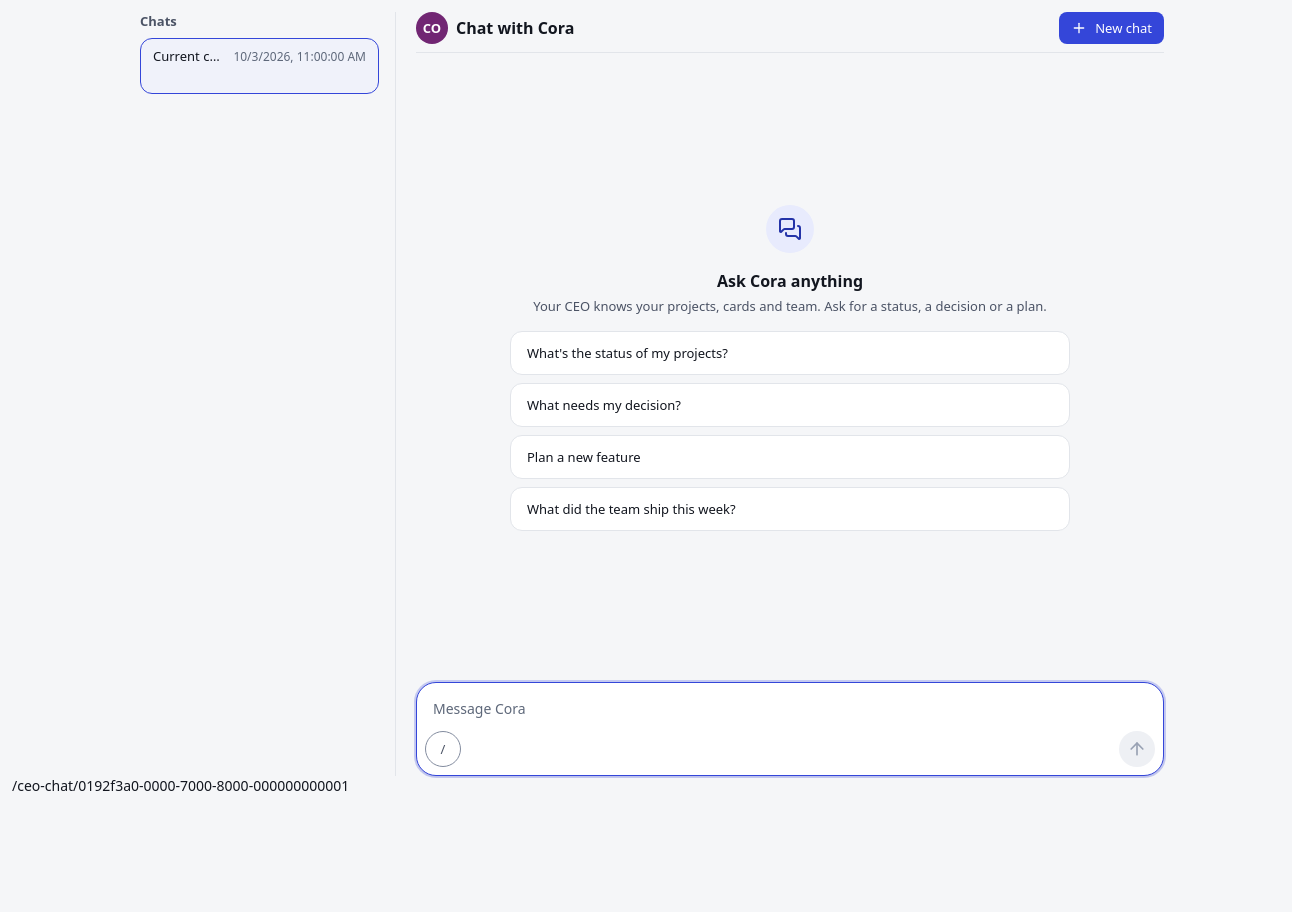
Test: CEO chat page › tells the user to wait when the CEO is mid-turn (409 turn_in_flight)
Click the button with test id "ceo-chat-new" at (1112, 28), box left=1059, top=12, right=1164, bottom=44
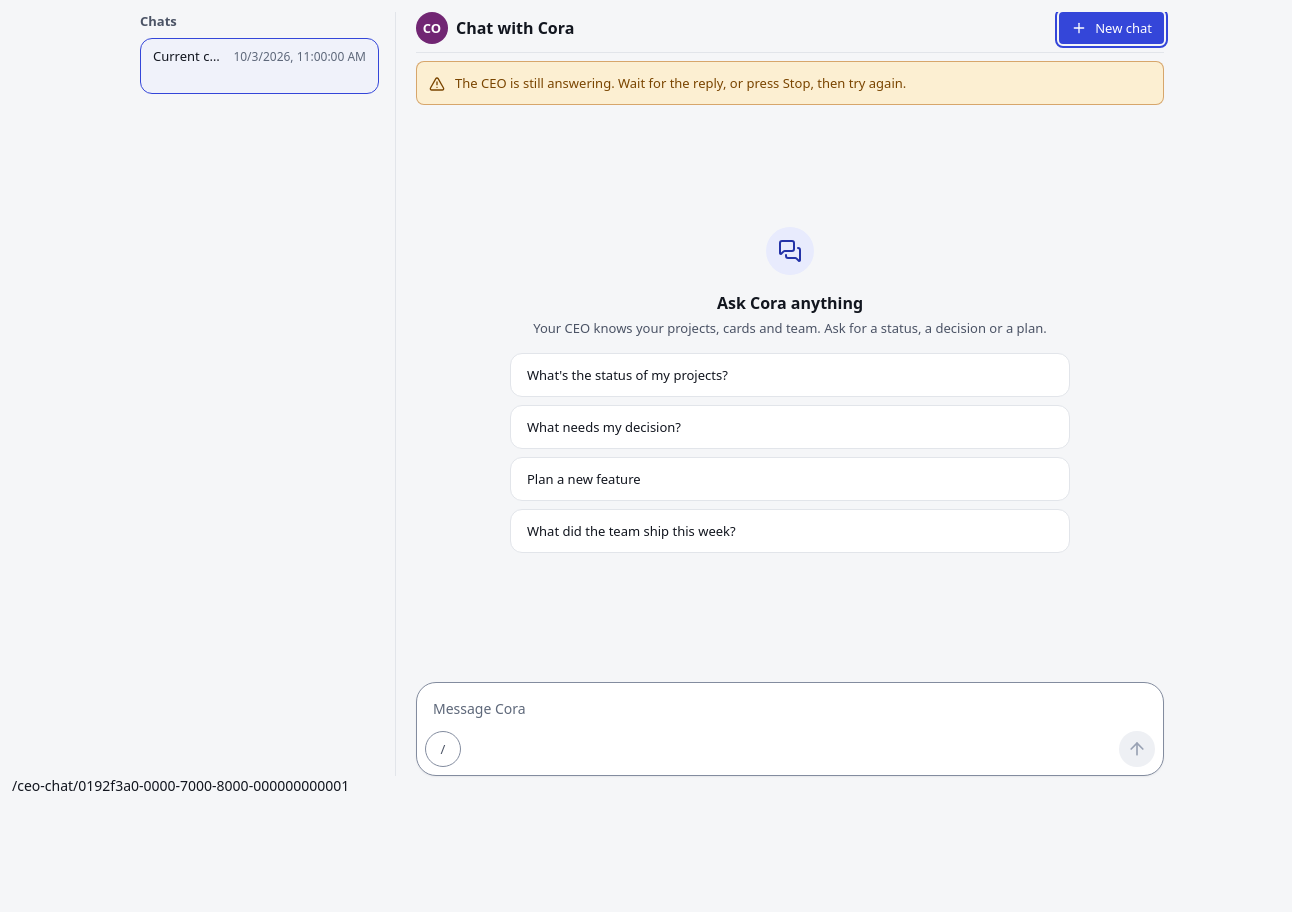
Now the message with test id "ceo-chat-busy" shows "still answering", box left=455, top=74, right=906, bottom=92
